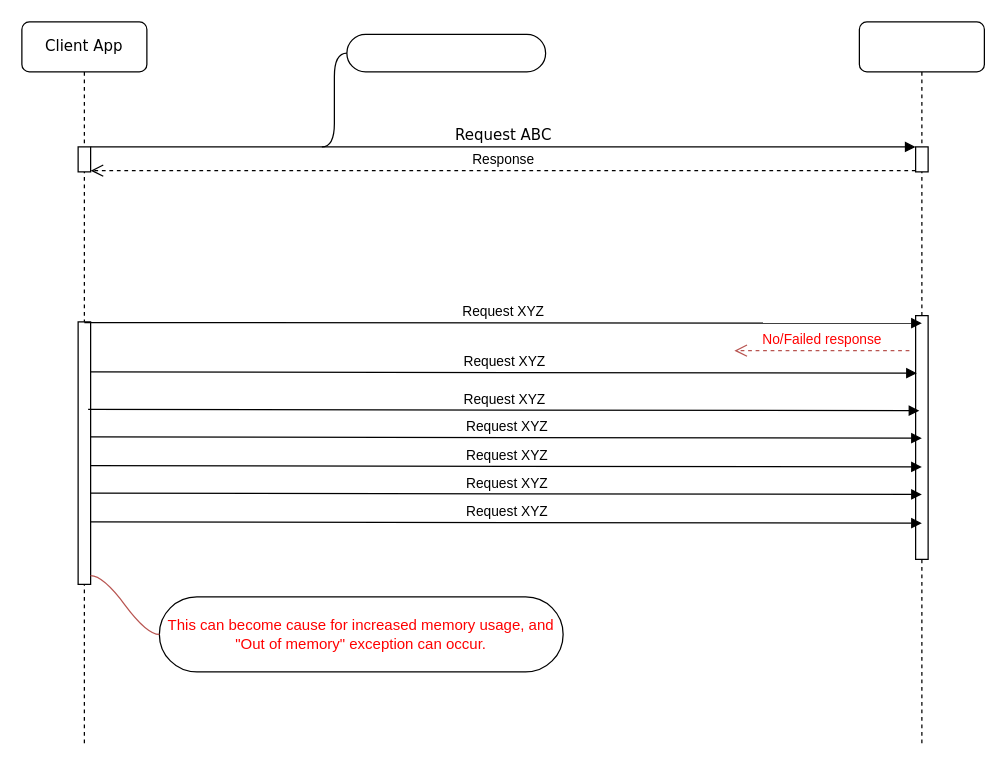
Some shapes in this 1006 by 769 pixel diagram are drawn without their labels. Each missing label, with the box of its shape:
Normal Flow: (346, 33, 546, 72)
Web service: (858, 21, 984, 747)
